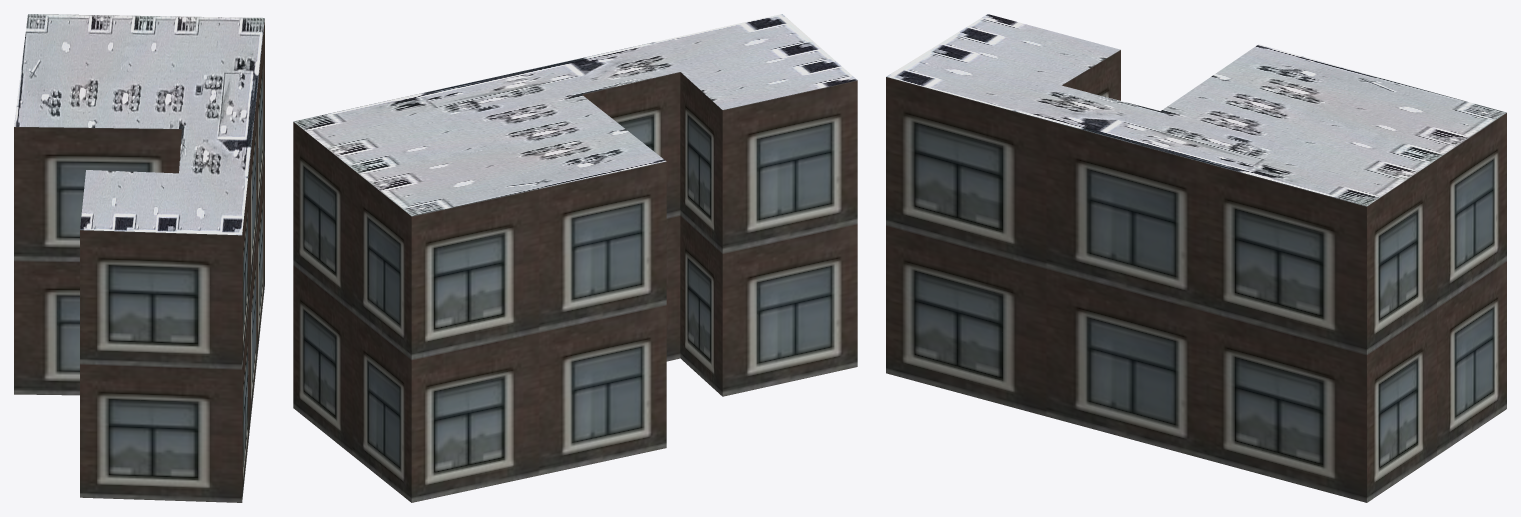
Rendered from ResTex__90.fbx.
The picture shows the model from 3 angles, left to right: view 1: azimuth 30°, elevation 25°; view 2: azimuth 150°, elevation 25°; view 3: azimuth 270°, elevation 25°; orthographic projection. The views are drawn at different scales.
Parts seen in each view (by area): view 1: CityEngineMaterial_16_m, CityEngineMaterial_15_m; view 2: CityEngineMaterial_16_m, CityEngineMaterial_15_m; view 3: CityEngineMaterial_16_m, CityEngineMaterial_15_m.
Part boxes in pixels (<box>): CityEngineMaterial_16_m: <box>14,19,264,502</box>; CityEngineMaterial_15_m: <box>14,14,264,235</box>; CityEngineMaterial_16_m: <box>293,72,857,502</box>; CityEngineMaterial_15_m: <box>293,14,857,216</box>; CityEngineMaterial_16_m: <box>886,50,1506,502</box>; CityEngineMaterial_15_m: <box>886,14,1506,206</box>.
Size of the model in its own units: 8.35 by 6 by 11.39.
2 materials, 2 textured.
